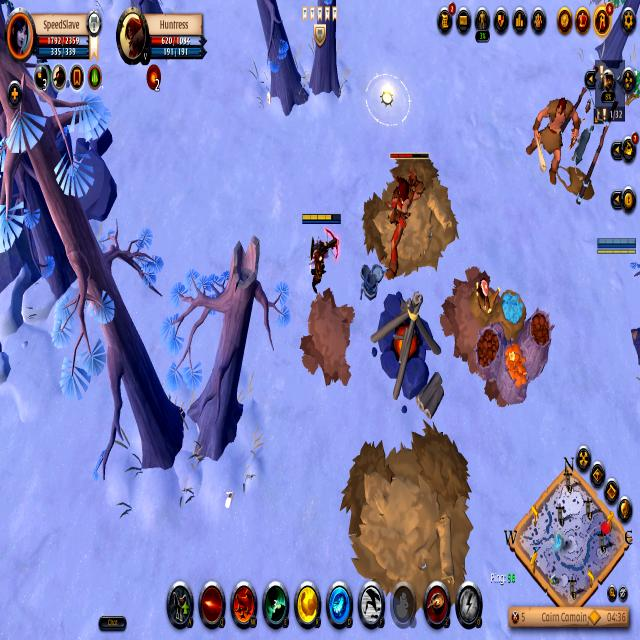hide: (623, 69, 640, 115)
ore: (373, 148, 433, 280), (526, 87, 581, 191)
red: (300, 210, 344, 298), (593, 228, 640, 264)
